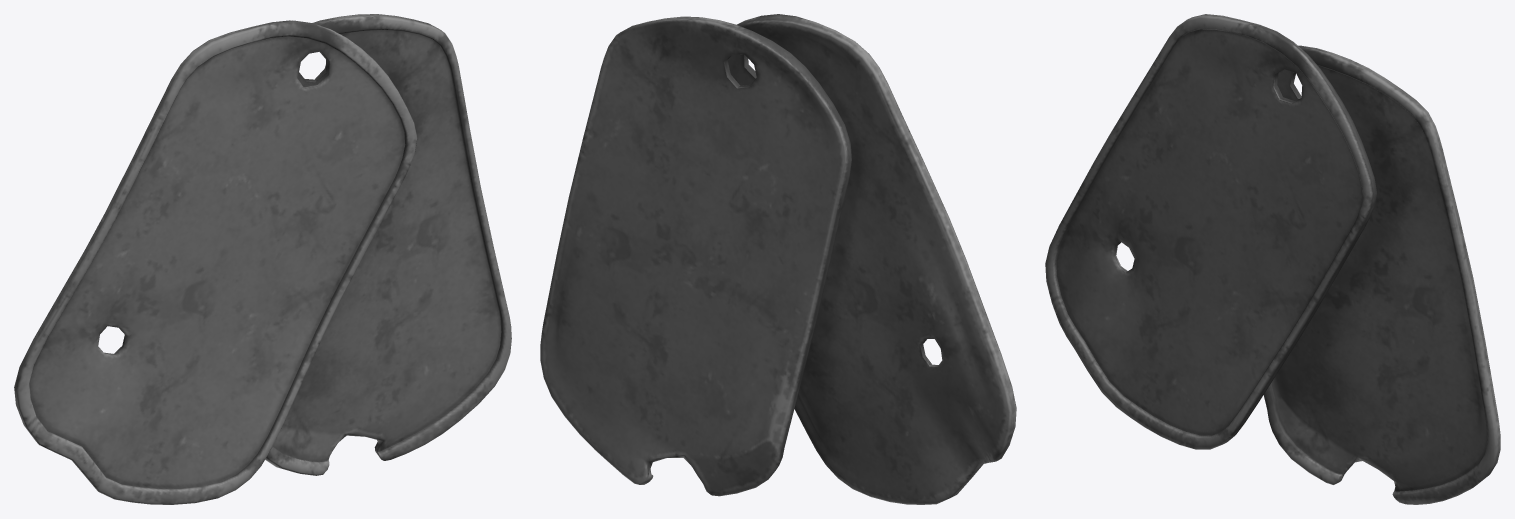
File: dog_tags_-_military.glb
3 views of the same model, side by side, from view 1: azimuth 30°, elevation 25°; view 2: azimuth 150°, elevation 25°; view 3: azimuth 330°, elevation 25° (orthographic). The views are drawn at different scales.
Visible parts, largest first — view 1: Object_2; view 2: Object_2; view 3: Object_2.
Part boxes in pixels (x1,y1,x2,y2): Object_2: (14, 14, 511, 504); Object_2: (540, 14, 1016, 504); Object_2: (1045, 14, 1500, 504).
Bounding box in the file's own units: 3.25 × 3.11 × 0.4337.
1 material, 1 textured.
